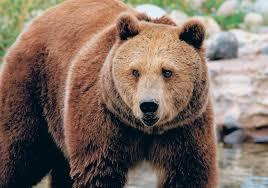bear: (1, 1, 221, 187)
